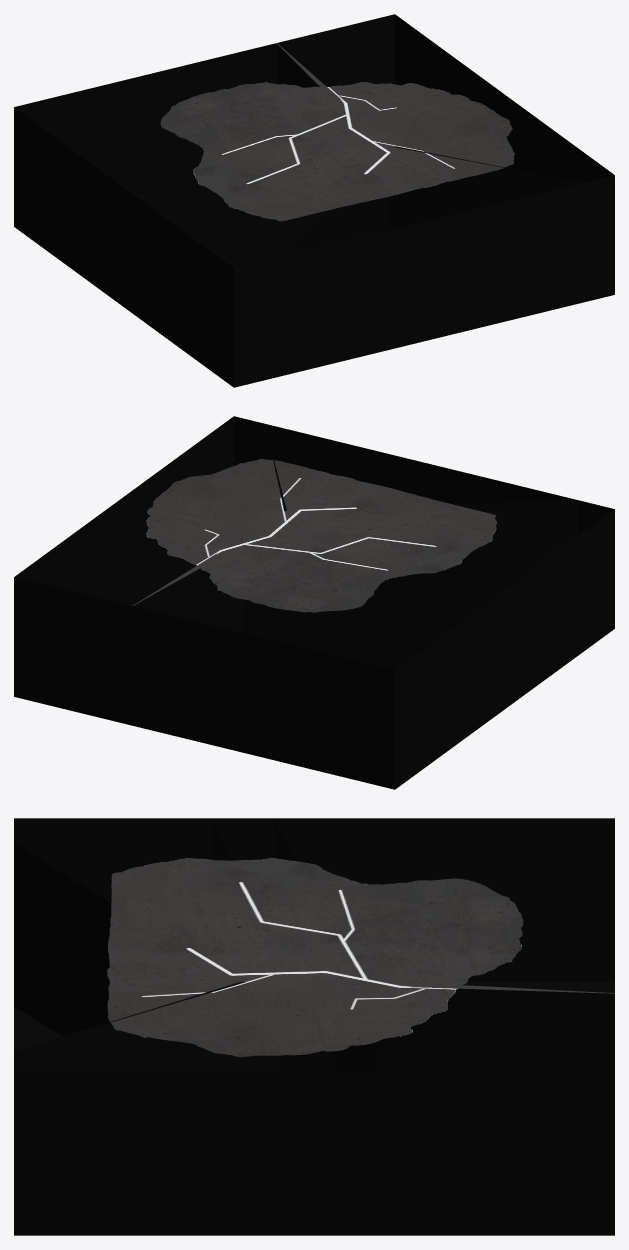
File: RockDestroyAnim.0002.fbx
3 renders of one model, top to bottom at view 1: azimuth 30°, elevation 25°; view 2: azimuth 150°, elevation 25°; view 3: azimuth 270°, elevation 25°, orthographic. The views are drawn at different scales.
Visible parts, largest first — view 1: shard5, shard1, shard4, shard3, shard2; view 2: shard1, shard4, shard3, shard5, shard2; view 3: shard4, shard1, shard5, shard3, shard2.
Boxes of the visible parts, bbox=[...] form: shard5: bbox=[271, 141, 583, 378]; shard1: bbox=[14, 43, 347, 317]; shard4: bbox=[277, 14, 614, 302]; shard3: bbox=[161, 115, 389, 387]; shard2: bbox=[138, 138, 298, 334]; shard1: bbox=[132, 544, 519, 789]; shard4: bbox=[14, 416, 286, 725]; shard3: bbox=[244, 500, 614, 681]; shard5: bbox=[265, 424, 577, 561]; shard2: bbox=[320, 537, 542, 697]; shard4: bbox=[14, 972, 614, 1235]; shard1: bbox=[274, 818, 614, 1072]; shard5: bbox=[14, 843, 274, 1072]; shard3: bbox=[14, 818, 364, 1072]; shard2: bbox=[211, 818, 339, 935].
Bounding box in the file's own units: 10 × 3 × 10.
